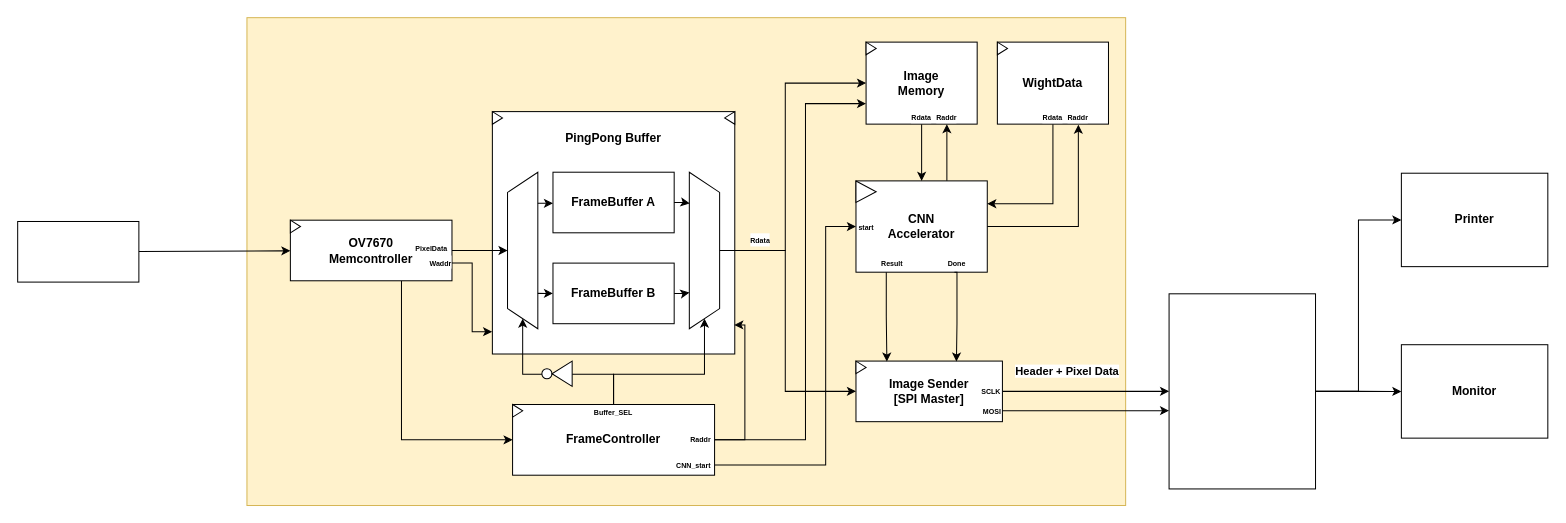
Image size: 1566x523. Some labels were removed from this diagram. Here are the shapes that lost their labels. From the top down, the centre of each, then its label:
At (x=78, y=251): "OV7670 CAM".
At (x=522, y=250): "Wdata".
At (x=1242, y=391): "Jetson Board".
